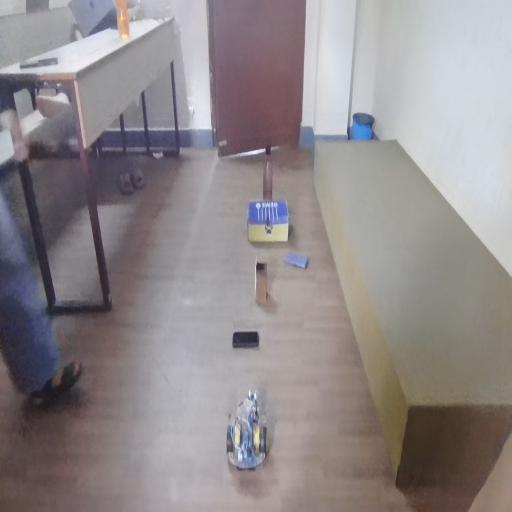Bottle: (260, 142, 283, 205)
car: (238, 379, 281, 492)
